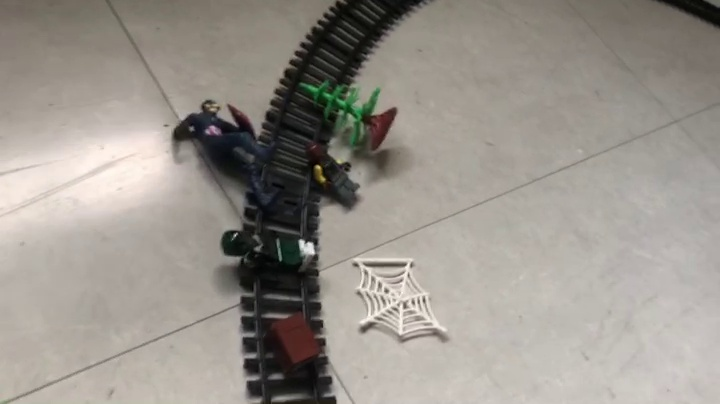box: (269, 313, 322, 386)
people: (172, 101, 286, 211), (222, 228, 319, 280), (303, 142, 361, 212)
tree: (298, 78, 397, 150)
web: (351, 256, 447, 340)
